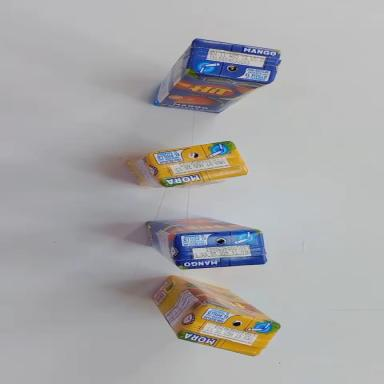HIT-MANGO: (154, 34, 280, 123), (146, 214, 265, 270)
HIT-MORA: (144, 270, 286, 365), (126, 139, 248, 195)
cara_F: (168, 273, 284, 325), (157, 68, 270, 121), (147, 216, 259, 235)
